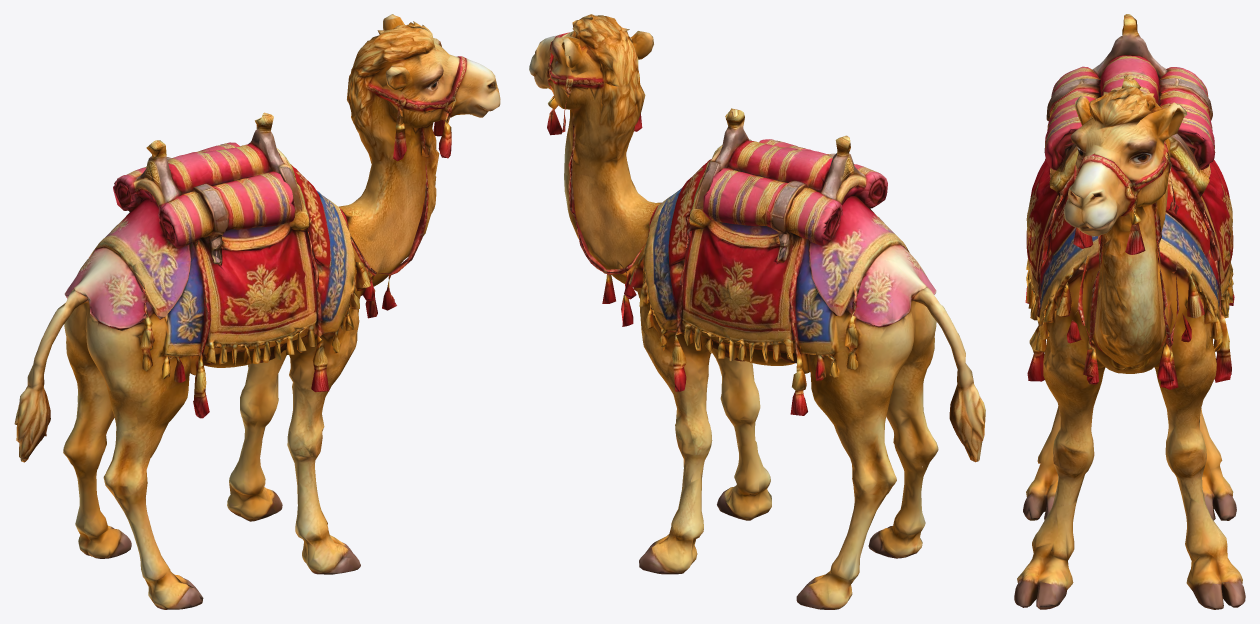
File: camel.glb
3 renders of one model, left to right at view 1: azimuth 30°, elevation 25°; view 2: azimuth 150°, elevation 25°; view 3: azimuth 270°, elevation 25°, orthographic. The views are drawn at different scales.
Visible parts, largest first — view 1: tripo_node_ffd5dbff-90f1-4ccc-9233-84b11449f5d8; view 2: tripo_node_ffd5dbff-90f1-4ccc-9233-84b11449f5d8; view 3: tripo_node_ffd5dbff-90f1-4ccc-9233-84b11449f5d8.
Part boxes in pixels (bbox=[...]): tripo_node_ffd5dbff-90f1-4ccc-9233-84b11449f5d8: bbox=[14, 14, 500, 609]; tripo_node_ffd5dbff-90f1-4ccc-9233-84b11449f5d8: bbox=[529, 14, 985, 609]; tripo_node_ffd5dbff-90f1-4ccc-9233-84b11449f5d8: bbox=[1014, 14, 1245, 609].
Size of the model in its own units: 0.9754 by 0.9754 by 0.3594.
1 material, 1 textured.
